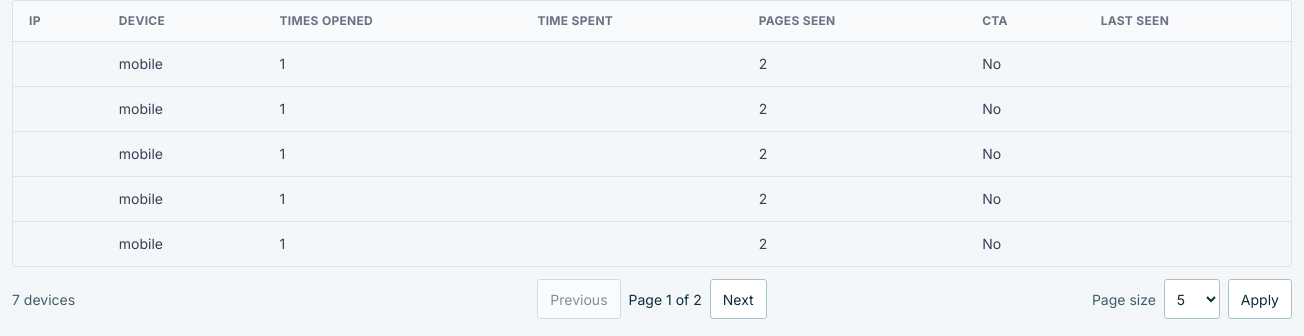
Scenario: ViewerAnalyticsTable (non-gated) › paginates to 5 rows by default and pages through the rest
Expected: the number of buttons named "view per-page breakdown" is 5, [13, 42, 1291, 86]; [13, 86, 1291, 132]; [13, 132, 1291, 176]; [13, 176, 1291, 222]; [13, 222, 1291, 266]
Expected: the text "7 devices" is shown, [12, 290, 75, 308]
What coordinates should you click on to do the following:
click the button "Next"
I would click on:
 (738, 299)
Its box is [710, 279, 767, 319].
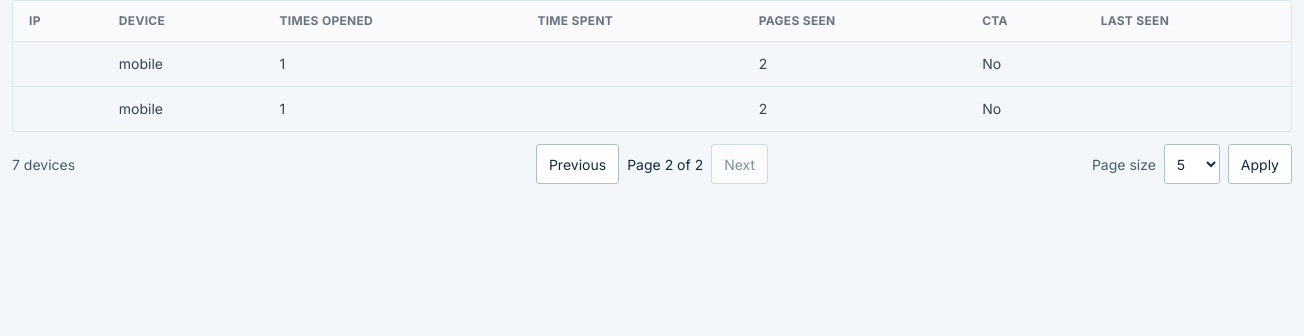
Expected: the number of buttons named "view per-page breakdown" is 2, [13, 42, 1291, 86]; [13, 86, 1291, 131]
Expected: the text "Page 2 of 2" is shown, [627, 154, 703, 174]
